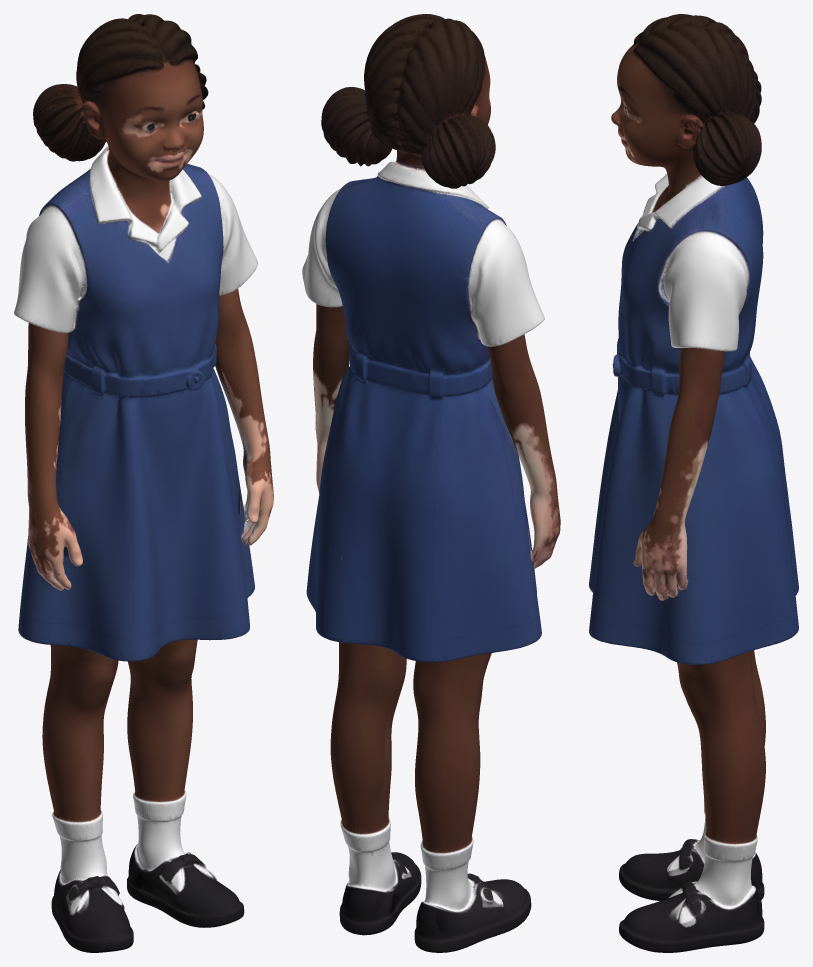
The model's file is Sthandile.glb.
The picture shows the model from 3 angles, left to right: view 1: azimuth 30°, elevation 25°; view 2: azimuth 150°, elevation 25°; view 3: azimuth 270°, elevation 25°; orthographic projection.
Bounding box in the file's own units: 0.5249 × 1.9 × 0.4038.
1 material, 1 textured.
